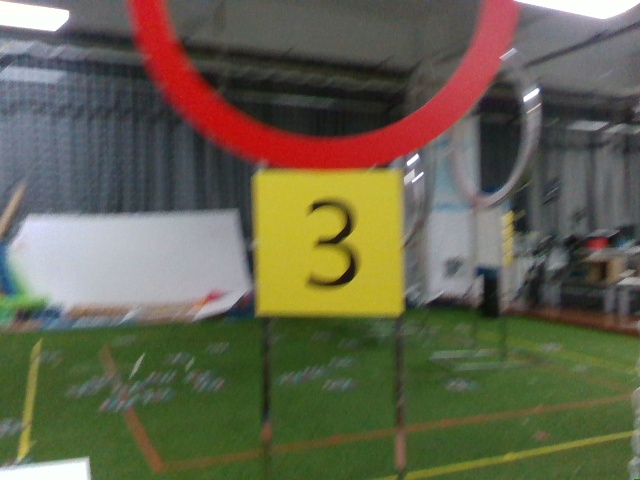target: (257, 173, 391, 308)
